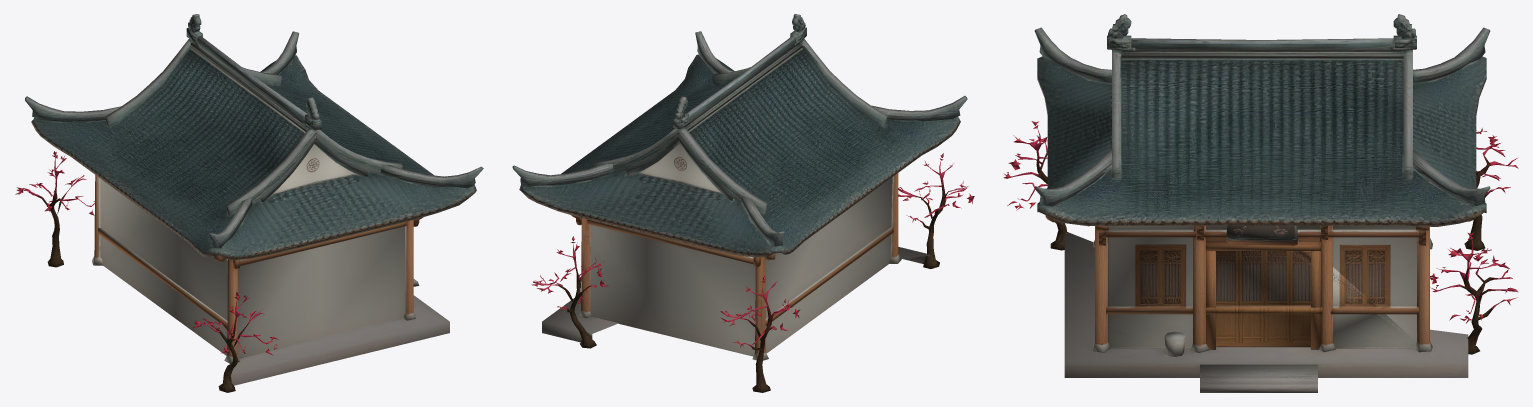
Rendered from longcui.glb.
3 views of the same model, side by side, from view 1: azimuth 30°, elevation 25°; view 2: azimuth 150°, elevation 25°; view 3: azimuth 270°, elevation 25° (orthographic). The views are drawn at different scales.
Visible parts, largest first — view 1: tripo_node_101b02c7-b45e-4e4d-8a17-a0ff46784a4d; view 2: tripo_node_101b02c7-b45e-4e4d-8a17-a0ff46784a4d; view 3: tripo_node_101b02c7-b45e-4e4d-8a17-a0ff46784a4d.
Part boxes in pixels (box(x1,y1,x2,y2)): tripo_node_101b02c7-b45e-4e4d-8a17-a0ff46784a4d: box(15, 14, 483, 392); tripo_node_101b02c7-b45e-4e4d-8a17-a0ff46784a4d: box(512, 14, 974, 392); tripo_node_101b02c7-b45e-4e4d-8a17-a0ff46784a4d: box(1003, 14, 1518, 392).
Bounding box in the file's own units: 0.7676 × 0.6309 × 0.998.
Materials: 1 (1 with a texture image).
